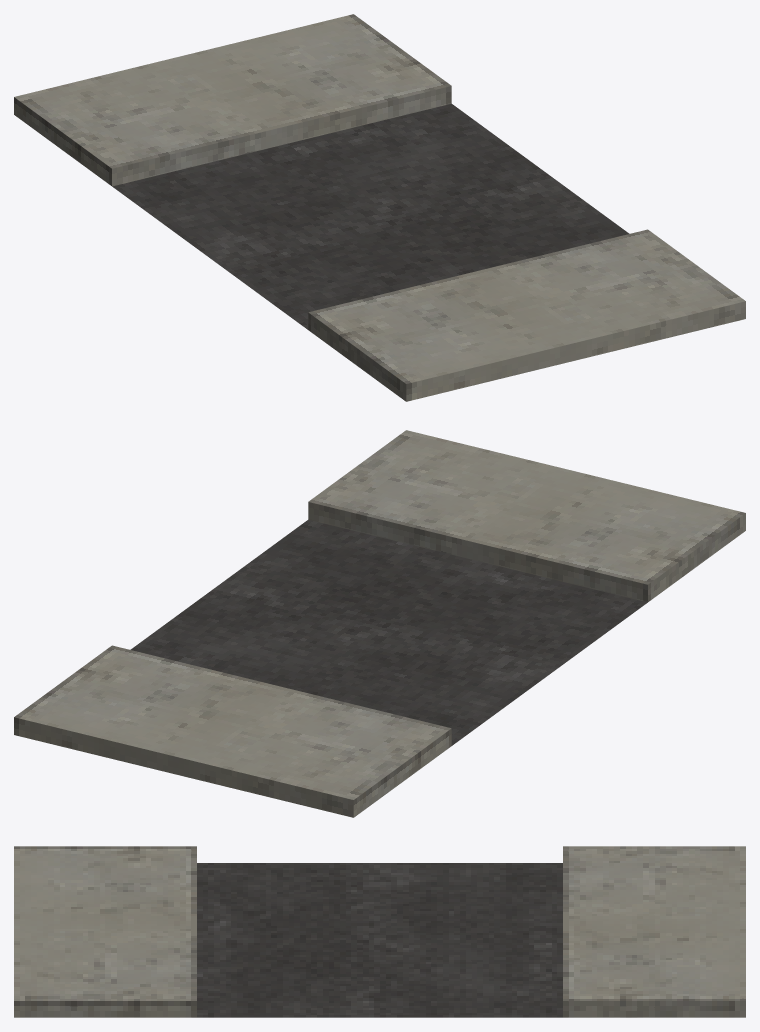
3 views of the same model, one above another, from view 1: azimuth 30°, elevation 25°; view 2: azimuth 150°, elevation 25°; view 3: azimuth 270°, elevation 25° (orthographic). The views are drawn at different scales.
Parts seen in each view (by area): view 1: road-asphalt-straight; view 2: road-asphalt-straight; view 3: road-asphalt-straight.
Part boxes in pixels (x1,y1,x2,y2): road-asphalt-straight: [14, 14, 745, 401]; road-asphalt-straight: [14, 430, 745, 817]; road-asphalt-straight: [14, 846, 745, 1017].
Bounding box in the file's own units: 1 × 0.05 × 2.
2 materials, 2 textured.
